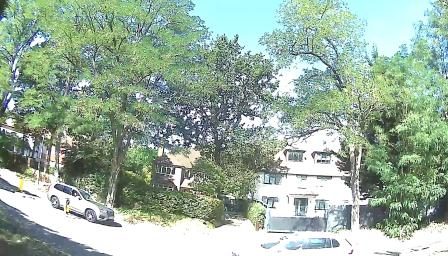Cars: (49, 180, 117, 226), (244, 231, 352, 256)
